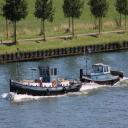tugboat: (10, 46, 84, 100), (80, 58, 126, 90)
